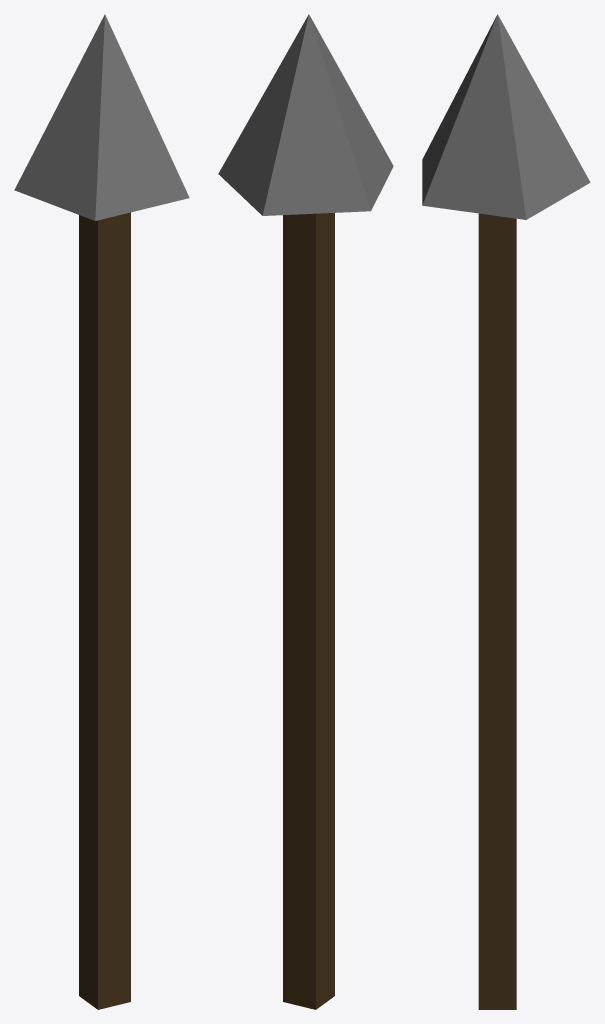
The model's file is arrow.fbx.
The picture shows the model from 3 angles, left to right: view 1: azimuth 30°, elevation 25°; view 2: azimuth 150°, elevation 25°; view 3: azimuth 270°, elevation 25°; orthographic projection.
Parts seen in each view (by area): view 1: Cube; view 2: Cube; view 3: Cube.
Part boxes in pixels (left/top/right/bottom): Cube: left=14, top=14, right=189, bottom=1009; Cube: left=218, top=14, right=393, bottom=1009; Cube: left=422, top=14, right=590, bottom=1009.
Bounding box in the file's own units: 35.08 × 216 × 33.36.
